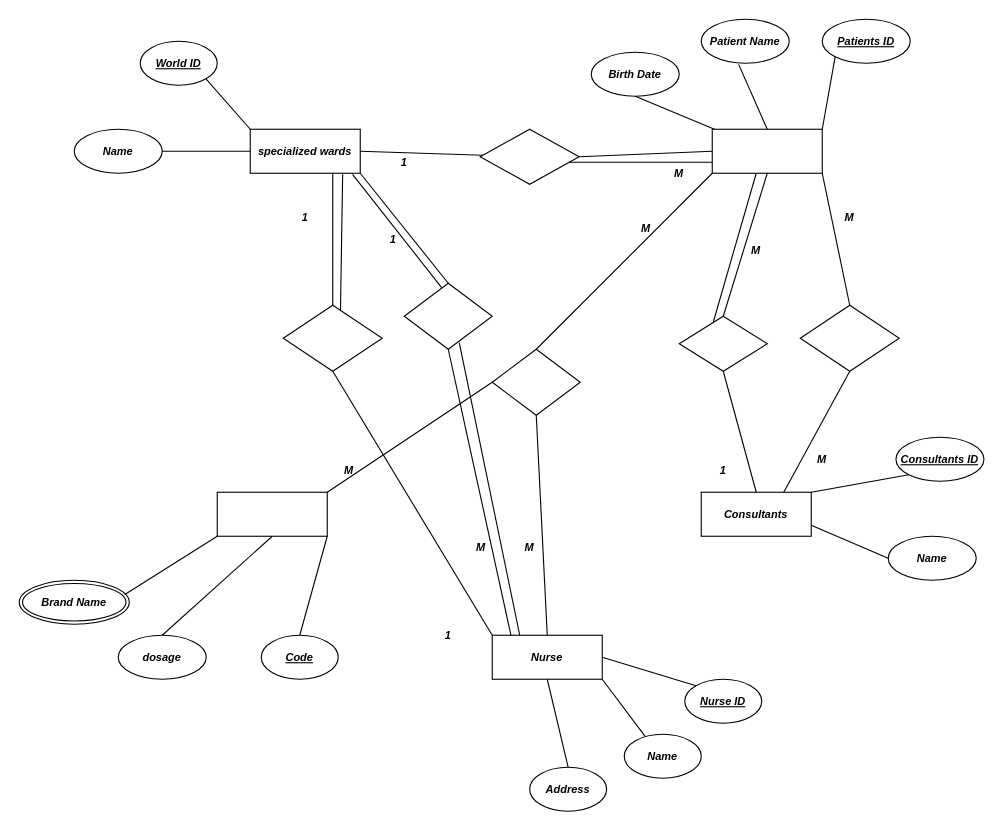
Image size: 1003x831. Some labels were removed from this diagram. Here are the shapes that lost their labels. From the top down, the centre of each, then its label:
At point (529, 156): "Host".
At point (766, 150): "Patients".
At point (447, 315): "Serve".
At point (332, 337): "Supervision".
At point (722, 343): "Assigned".
At point (849, 337): "Examined".
At point (535, 381): "Gives".
At point (271, 513): "Drug".
